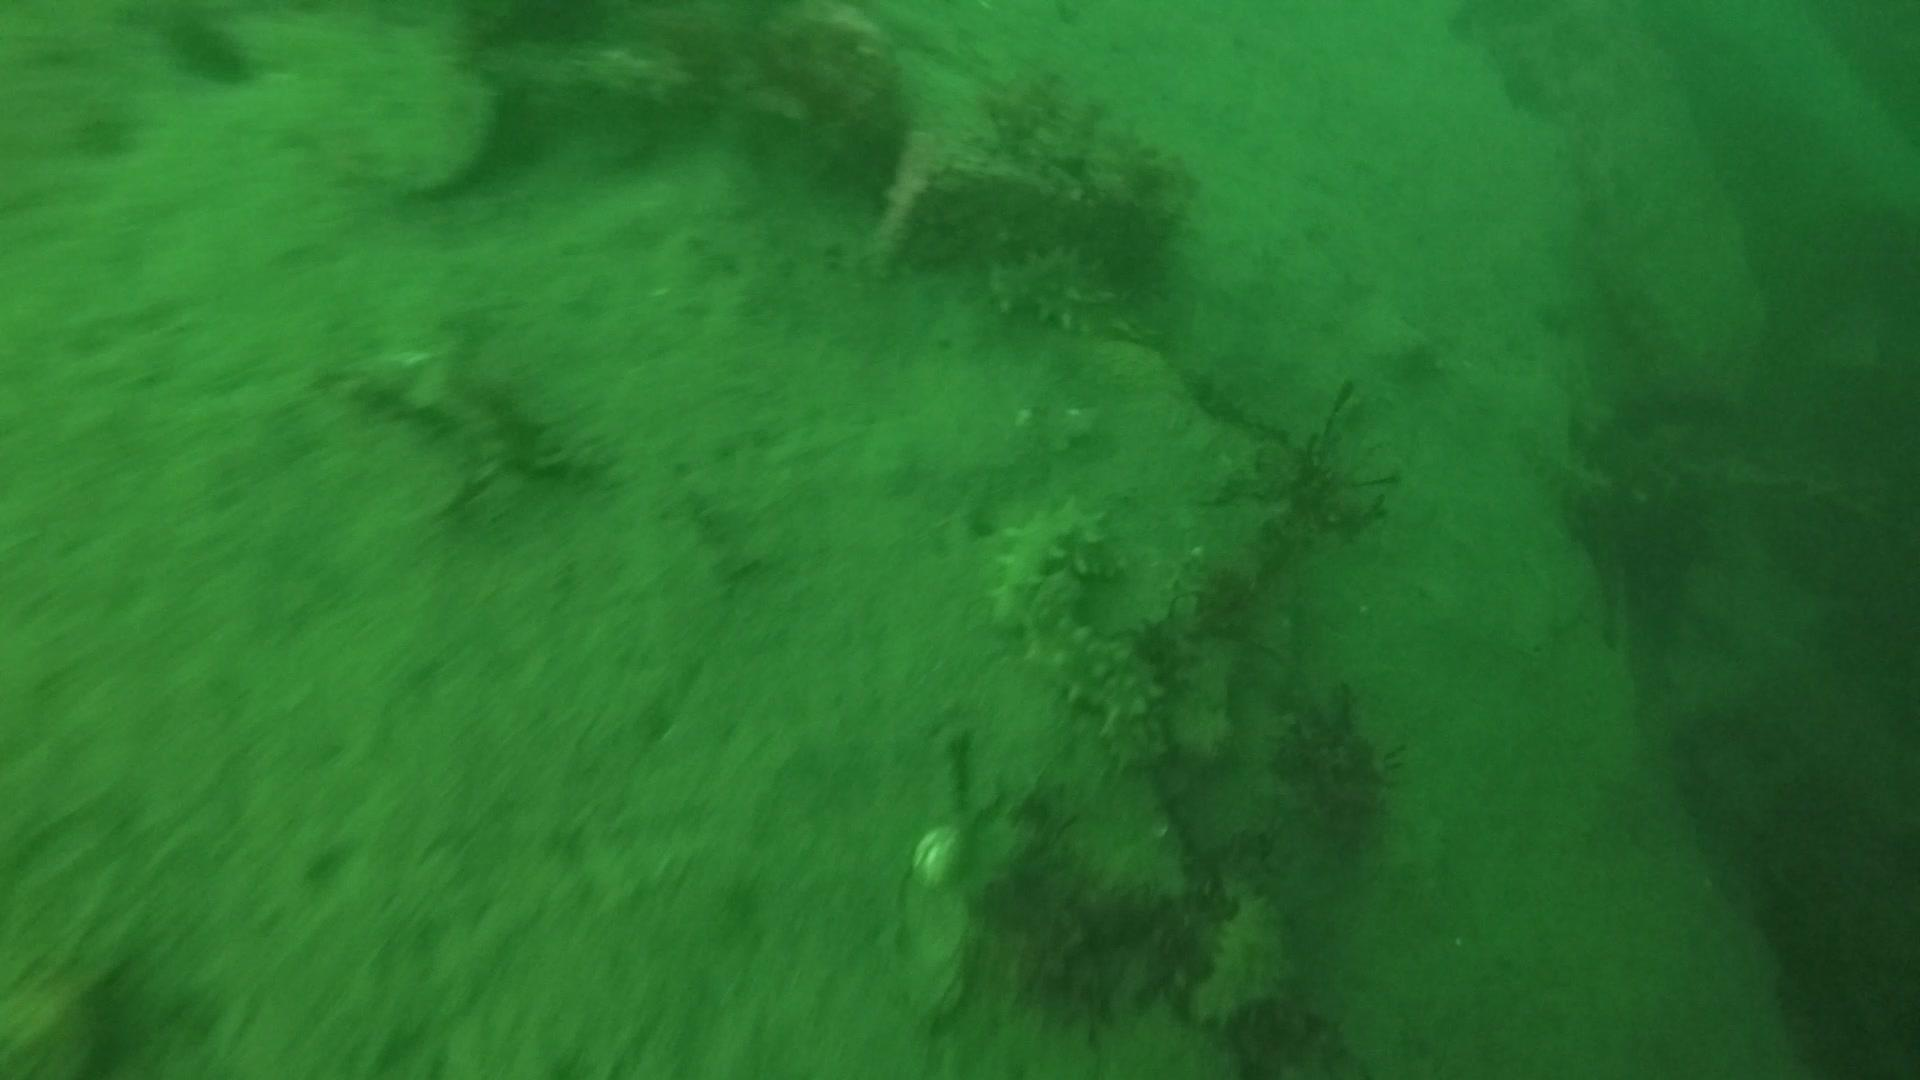holothurian: (976, 483, 1122, 636), (1039, 628, 1176, 789), (1182, 872, 1304, 1046), (986, 239, 1139, 347), (1524, 433, 1623, 520)
